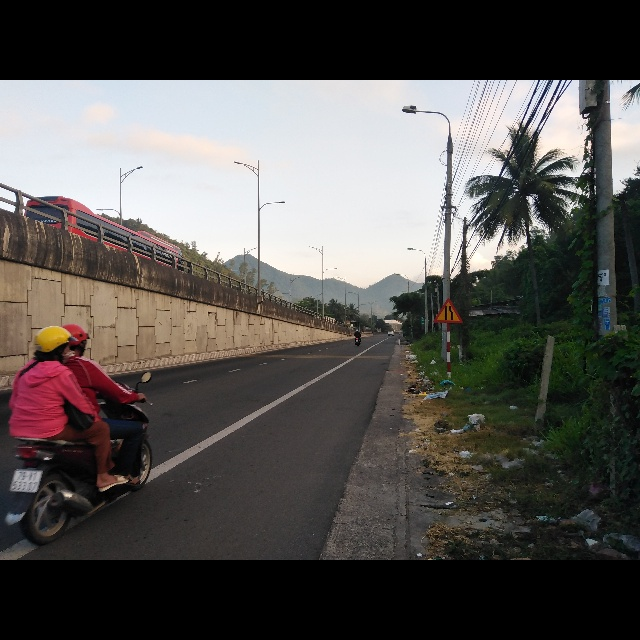Đường bị hẹp bên phải: (432, 296, 464, 324)
